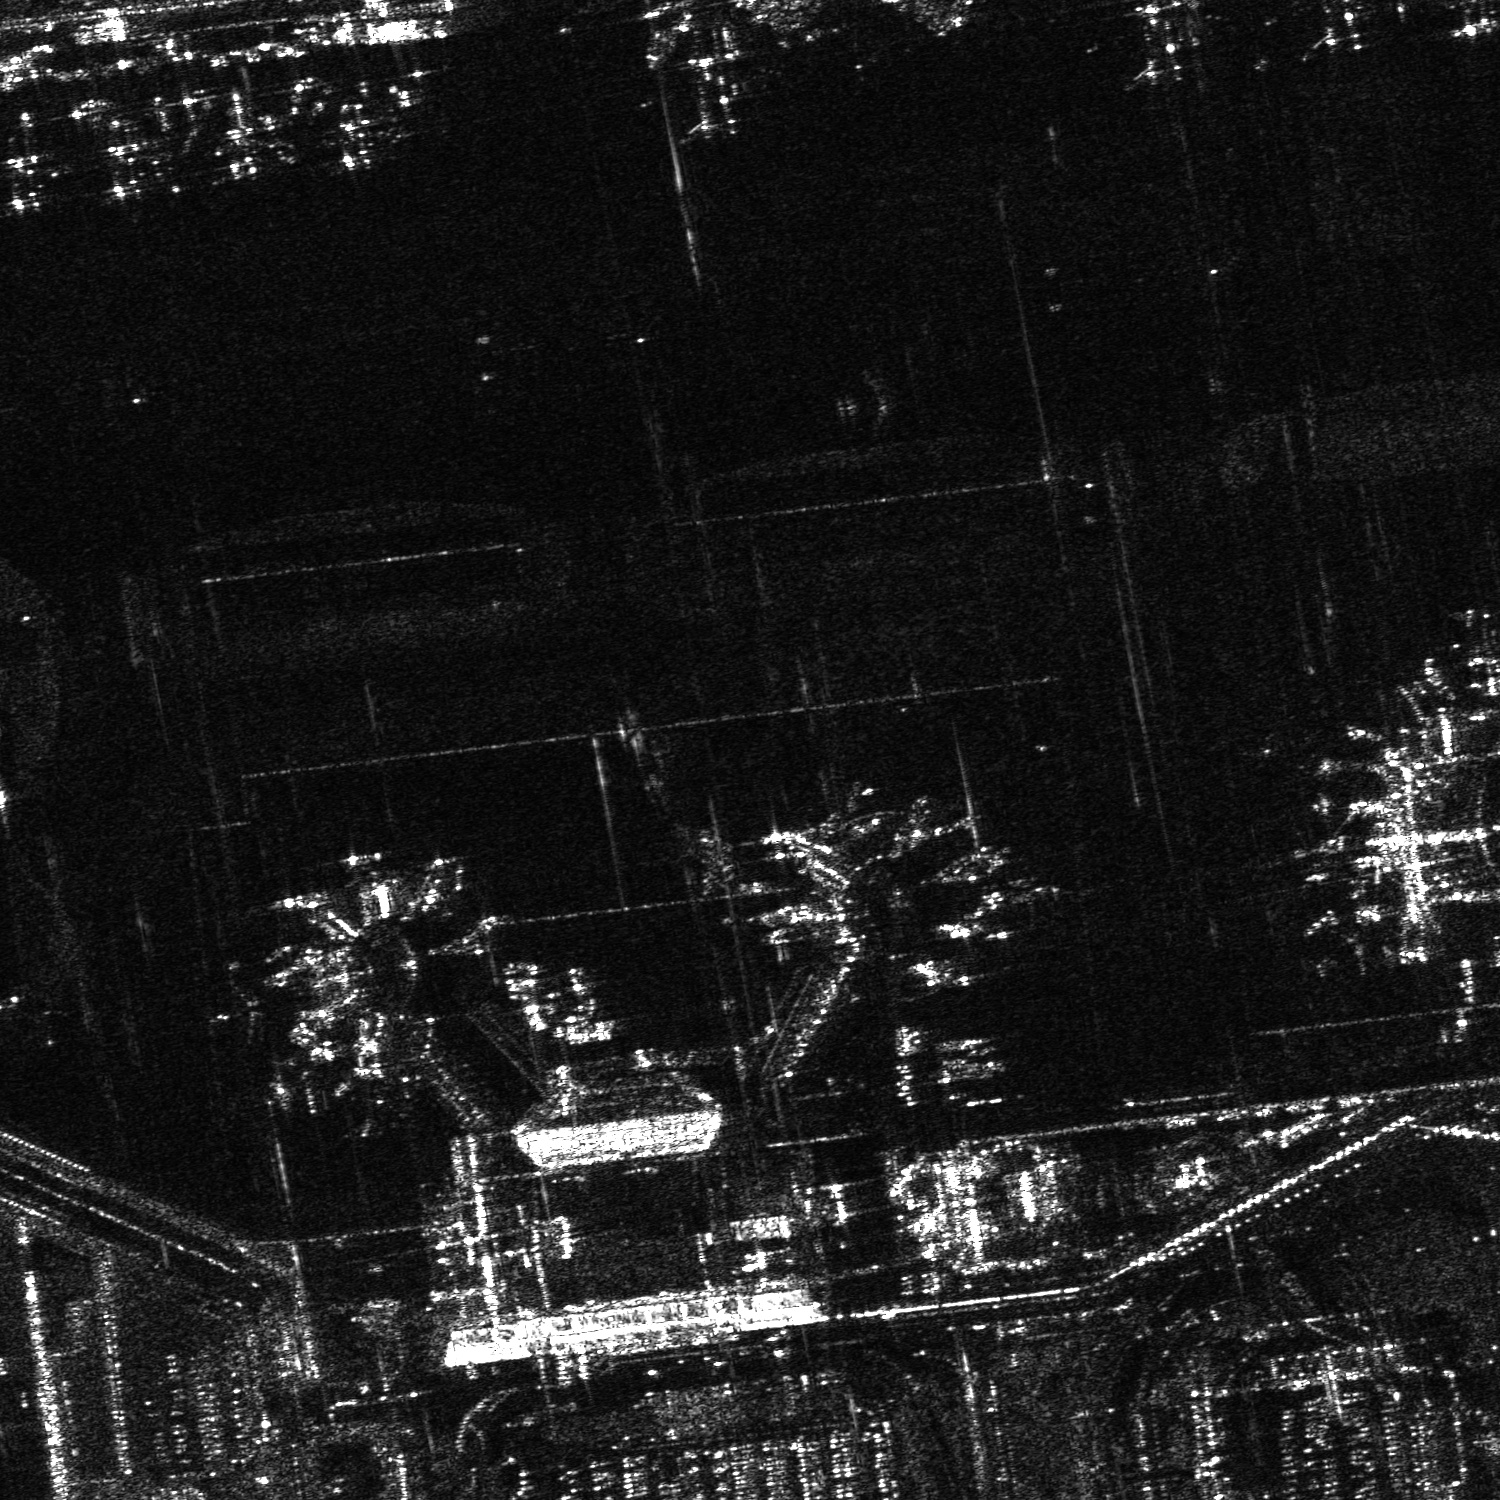A220: (205, 973, 273, 1051)
Boeing787: (100, 111, 168, 196), (218, 93, 279, 179), (328, 88, 390, 170), (1313, 927, 1372, 979)
